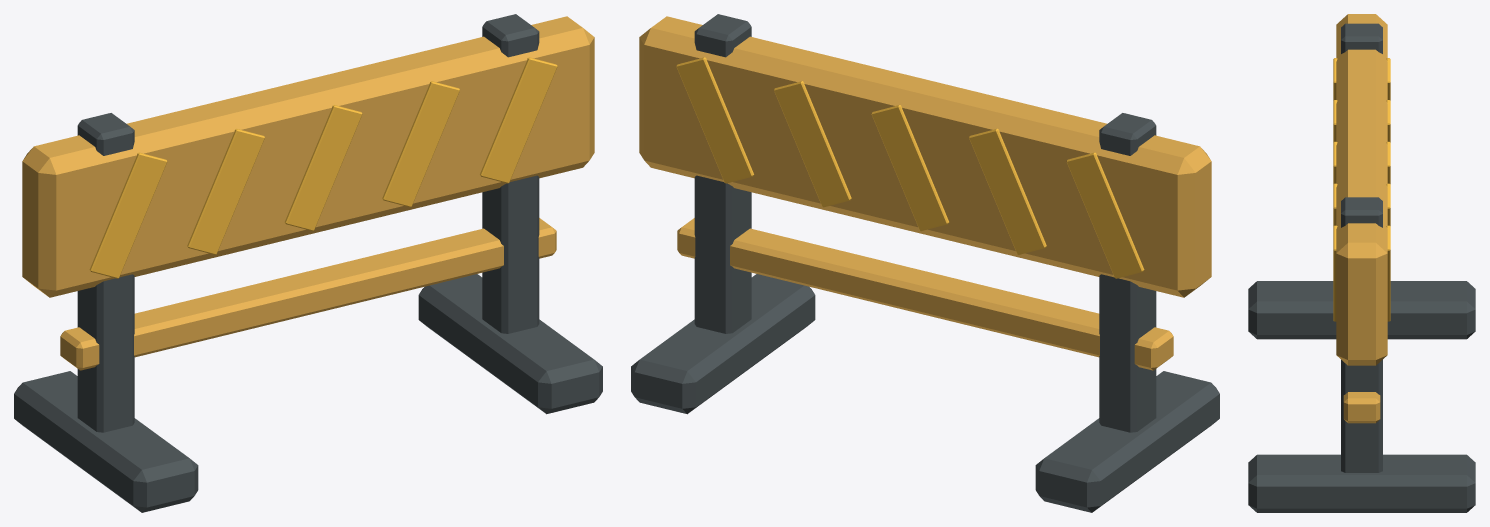
File: road_barricade.glb
3 views of the same model, side by side, from view 1: azimuth 30°, elevation 25°; view 2: azimuth 150°, elevation 25°; view 3: azimuth 270°, elevation 25° (orthographic). The views are drawn at different scales.
Parts seen in each view (by area): view 1: road_barricade.board, road_barricade.lower-rail, road_barricade.foot0, road_barricade.foot1, road_barricade.upright1, road_barricade.upright0, road_barricade.stripe03, road_barricade.stripe00, road_barricade.stripe04, road_barricade.stripe01, road_barricade.stripe02; view 2: road_barricade.board, road_barricade.lower-rail, road_barricade.foot0, road_barricade.foot1, road_barricade.upright1, road_barricade.upright0, road_barricade.stripe13, road_barricade.stripe10, road_barricade.stripe14, road_barricade.stripe11, road_barricade.stripe12; view 3: road_barricade.board, road_barricade.foot1, road_barricade.foot0, road_barricade.upright1, road_barricade.lower-rail, road_barricade.upright0, road_barricade.stripe04, road_barricade.stripe14.
Part boxes in pixels (x1=…): road_barricade.board: x1=22, y1=16, x2=594, y2=297; road_barricade.lower-rail: x1=60, y1=218, x2=556, y2=370; road_barricade.foot0: x1=14, y1=371, x2=198, y2=512; road_barricade.foot1: x1=418, y1=274, x2=602, y2=414; road_barricade.upright1: x1=482, y1=14, x2=539, y2=333; road_barricade.upright0: x1=77, y1=113, x2=134, y2=432; road_barricade.stripe03: x1=382, y1=81, x2=459, y2=207; road_barricade.stripe00: x1=89, y1=152, x2=167, y2=278; road_barricade.stripe04: x1=480, y1=57, x2=557, y2=183; road_barricade.stripe01: x1=187, y1=128, x2=264, y2=254; road_barricade.stripe02: x1=284, y1=105, x2=362, y2=231; road_barricade.board: x1=639, y1=16, x2=1211, y2=297; road_barricade.lower-rail: x1=677, y1=218, x2=1173, y2=370; road_barricade.foot0: x1=1035, y1=371, x2=1219, y2=512; road_barricade.foot1: x1=631, y1=274, x2=815, y2=414; road_barricade.upright1: x1=694, y1=14, x2=751, y2=333; road_barricade.upright0: x1=1099, y1=113, x2=1156, y2=432; road_barricade.stripe13: x1=774, y1=81, x2=851, y2=207; road_barricade.stripe10: x1=1066, y1=152, x2=1144, y2=278; road_barricade.stripe14: x1=676, y1=57, x2=753, y2=183; road_barricade.stripe11: x1=969, y1=128, x2=1046, y2=254; road_barricade.stripe12: x1=871, y1=105, x2=949, y2=231; road_barricade.board: x1=1336, y1=14, x2=1387, y2=365; road_barricade.foot1: x1=1248, y1=454, x2=1475, y2=512; road_barricade.foot0: x1=1248, y1=281, x2=1475, y2=339; road_barricade.upright1: x1=1341, y1=197, x2=1382, y2=472; road_barricade.lower-rail: x1=1343, y1=392, x2=1380, y2=423; road_barricade.upright0: x1=1341, y1=23, x2=1382, y2=53; road_barricade.stripe04: x1=1333, y1=225, x2=1337, y2=321; road_barricade.stripe14: x1=1386, y1=225, x2=1390, y2=321.
Size of the model in its own units: 1.85 by 1.08 by 0.744.
